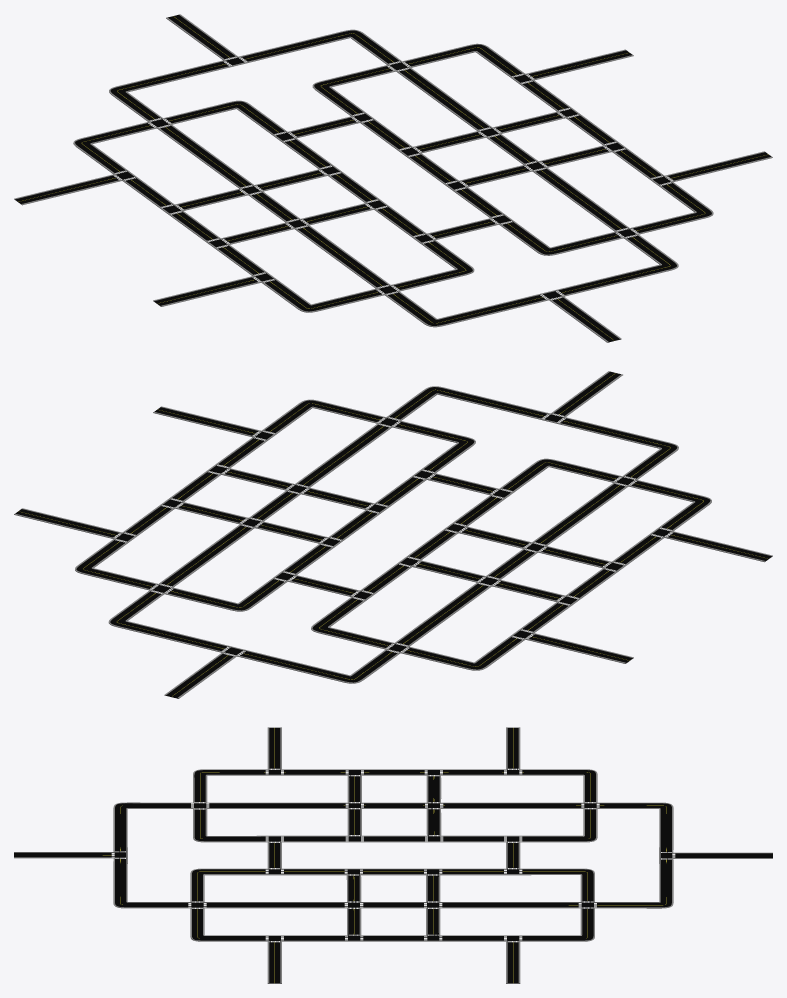
Rendered from roads.glb.
The picture shows the model from 3 angles, top to bottom: view 1: azimuth 30°, elevation 25°; view 2: azimuth 150°, elevation 25°; view 3: azimuth 270°, elevation 25°; orthographic projection. The views are drawn at different scales.
Visible parts, largest first — view 1: Roads.005; view 2: Roads.005; view 3: Roads.005.
Boxes of the visible parts, bbox=[...] form: Roads.005: bbox=[14, 14, 772, 342]; Roads.005: bbox=[14, 371, 772, 698]; Roads.005: bbox=[14, 727, 772, 983].
Bounding box in the file's own units: 487 × 0.4438 × 610.
4 materials, 1 textured.
